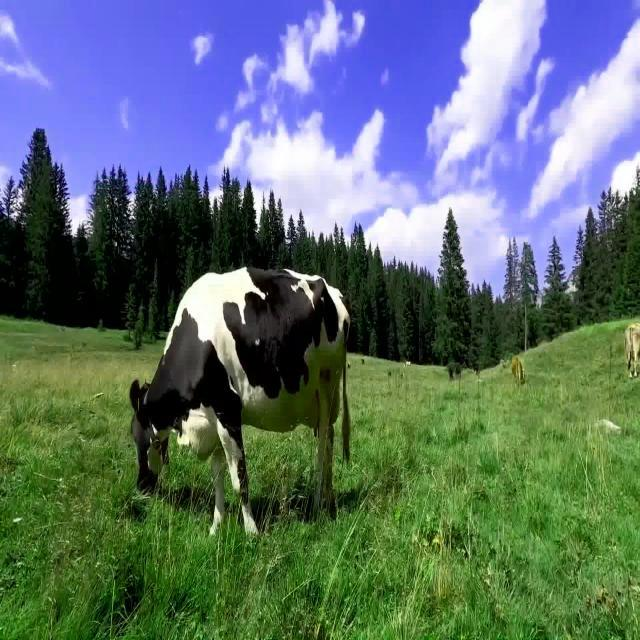cow: (130, 268, 350, 533)
